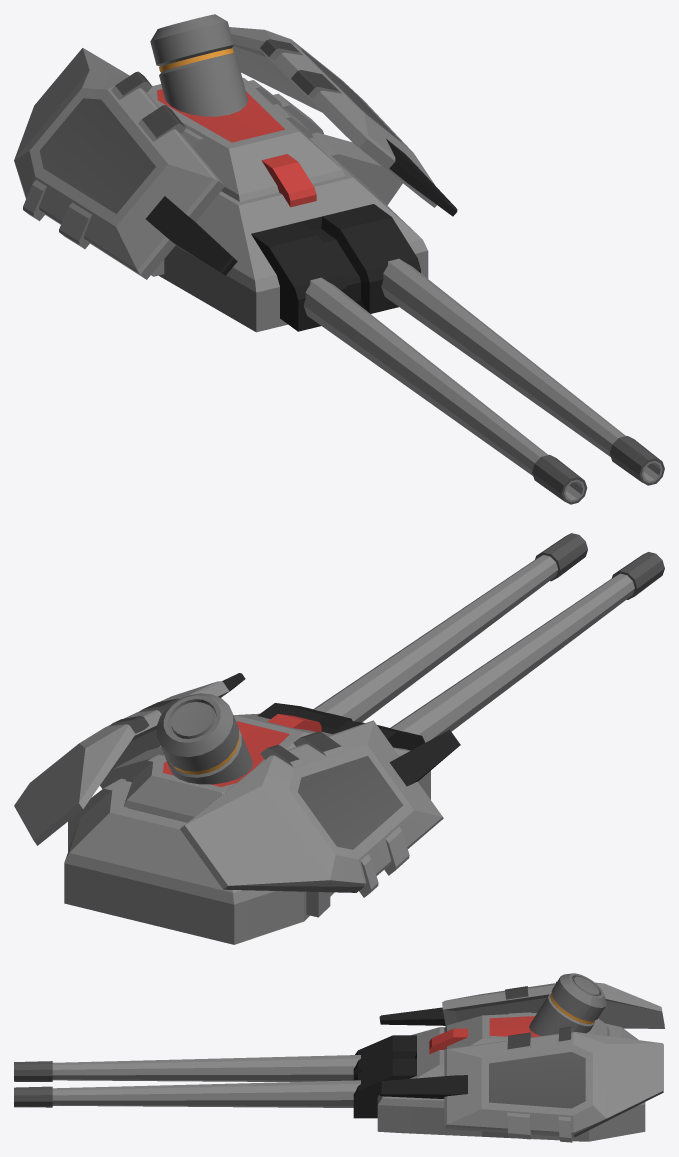
File: model_polyfleet_battleship_canon08.fbx
3 views of the same model, one above another, from view 1: azimuth 30°, elevation 25°; view 2: azimuth 150°, elevation 25°; view 3: azimuth 270°, elevation 25° (orthographic). The views are drawn at different scales.
Visible parts, largest first — view 1: model_cannon08, model_cannon_small_barrels, model_cannon_small_barrels1, polySurface1; view 2: model_cannon08, model_cannon_small_barrels, model_cannon_small_barrels1, polySurface1; view 3: model_cannon08, model_cannon_small_barrels, model_cannon_small_barrels1, polySurface1.
Part boxes in pixels (x1,y1,x2,y2): model_cannon08: (14, 27, 457, 332); model_cannon_small_barrels: (381, 258, 664, 485); model_cannon_small_barrels1: (303, 277, 587, 504); polySurface1: (150, 14, 247, 116); model_cannon08: (14, 673, 460, 944); model_cannon_small_barrels: (313, 533, 587, 722); model_cannon_small_barrels1: (390, 552, 664, 742); polySurface1: (156, 693, 253, 784); model_cannon08: (353, 981, 664, 1142); model_cannon_small_barrels: (14, 1080, 360, 1107); model_cannon_small_barrels1: (14, 1055, 360, 1081); polySurface1: (529, 973, 606, 1035).
Size of the model in its own units: 365 by 193 by 870.
